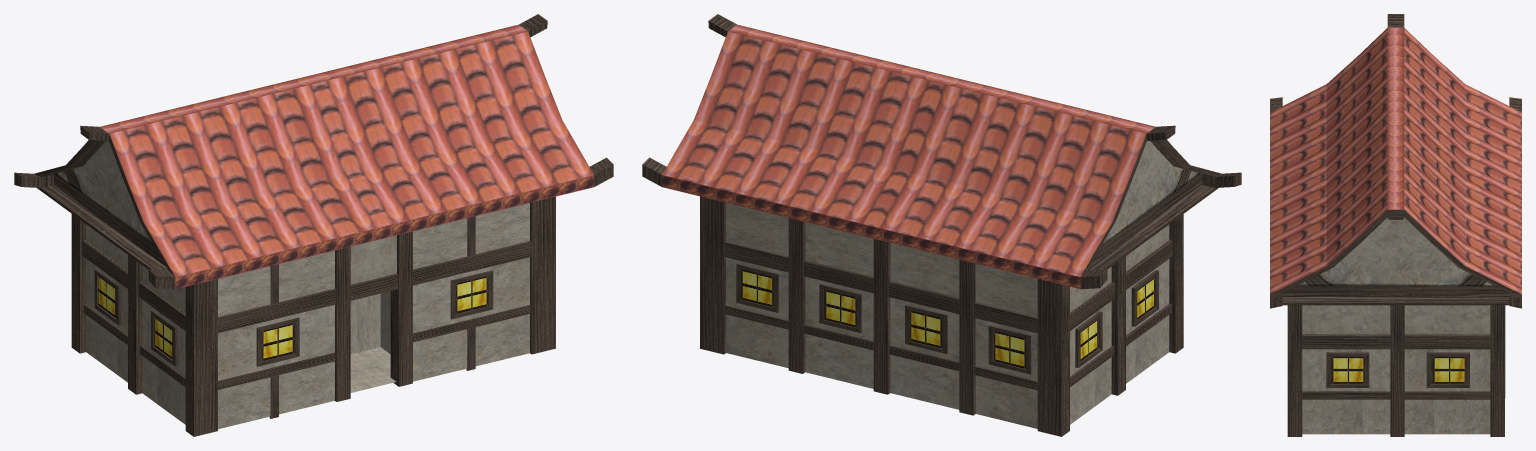
File: casa-oriental-04.fbx
The picture shows the model from 3 angles, left to right: view 1: azimuth 30°, elevation 25°; view 2: azimuth 150°, elevation 25°; view 3: azimuth 270°, elevation 25°; orthographic projection. The views are drawn at different scales.
Parts seen in each view (by area): view 1: Cube.000, Cube.001, Cube.002; view 2: Cube.000, Cube.002; view 3: Cube.000, Cube.002.
Part boxes in pixels (<box>): Cube.000: <box>14,14,613,436</box>; Cube.001: <box>350,291,395,392</box>; Cube.002: <box>98,276,488,360</box>; Cube.000: <box>642,14,1241,436</box>; Cube.002: <box>740,269,1155,368</box>; Cube.000: <box>1270,14,1521,436</box>; Cube.002: <box>1330,357,1465,383</box>.
Size of the model in its own units: 9.06 by 5.24 by 4.85.
